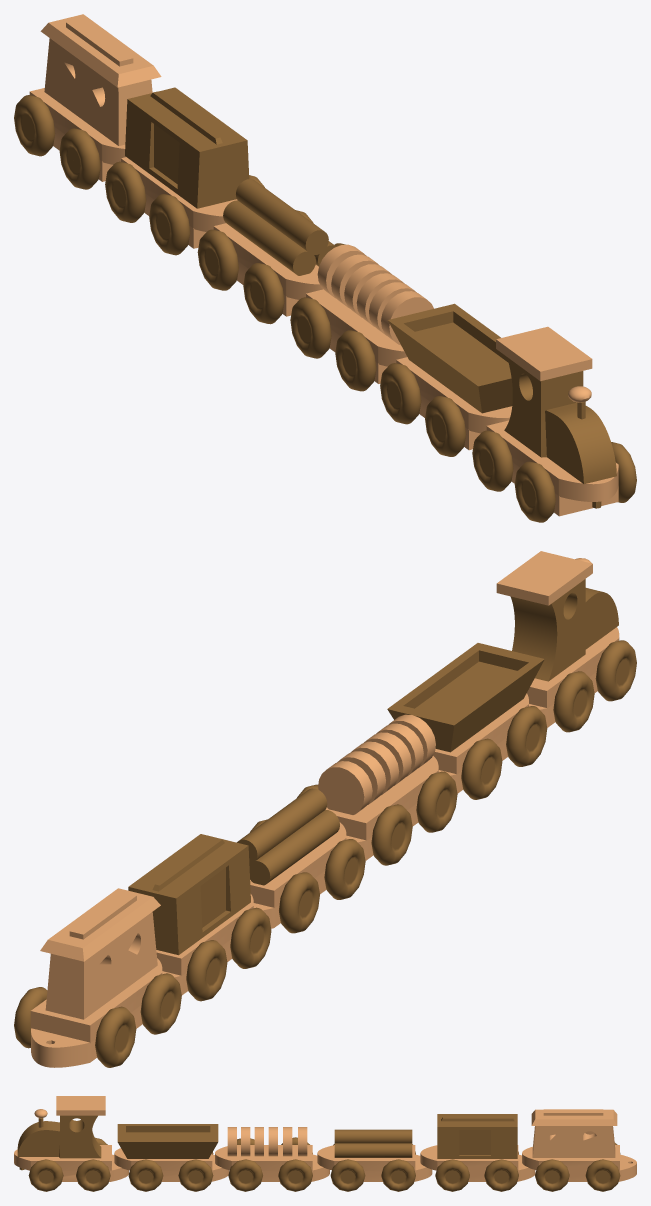
Rendered from TRAIN.FBX.
The picture shows the model from 3 angles, top to bottom: view 1: azimuth 30°, elevation 25°; view 2: azimuth 150°, elevation 25°; view 3: azimuth 270°, elevation 25°; orthographic projection. The views are drawn at different scales.
Visible parts, largest first — view 1: WOOD_-_MED, WOOD_-_WHI; view 2: WOOD_-_MED, WOOD_-_WHI; view 3: WOOD_-_MED, WOOD_-_WHI.
Part boxes in pixels (x1=…): WOOD_-_MED: x1=14, y1=87, x2=636, y2=522; WOOD_-_WHI: x1=29, y1=14, x2=618, y2=516; WOOD_-_MED: x1=14, y1=579, x2=636, y2=1067; WOOD_-_WHI: x1=30, y1=551, x2=619, y2=1067; WOOD_-_MED: x1=17, y1=1114, x2=620, y2=1191; WOOD_-_WHI: x1=14, y1=1096, x2=636, y2=1181.
Size of the model in its own units: 193 by 261 by 1909.
